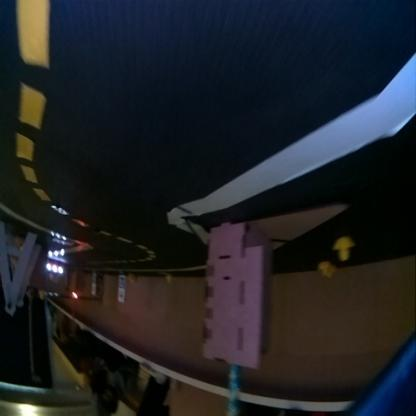Duckie: (336, 238, 352, 260), (318, 264, 329, 275), (326, 266, 334, 278), (165, 276, 170, 284)
